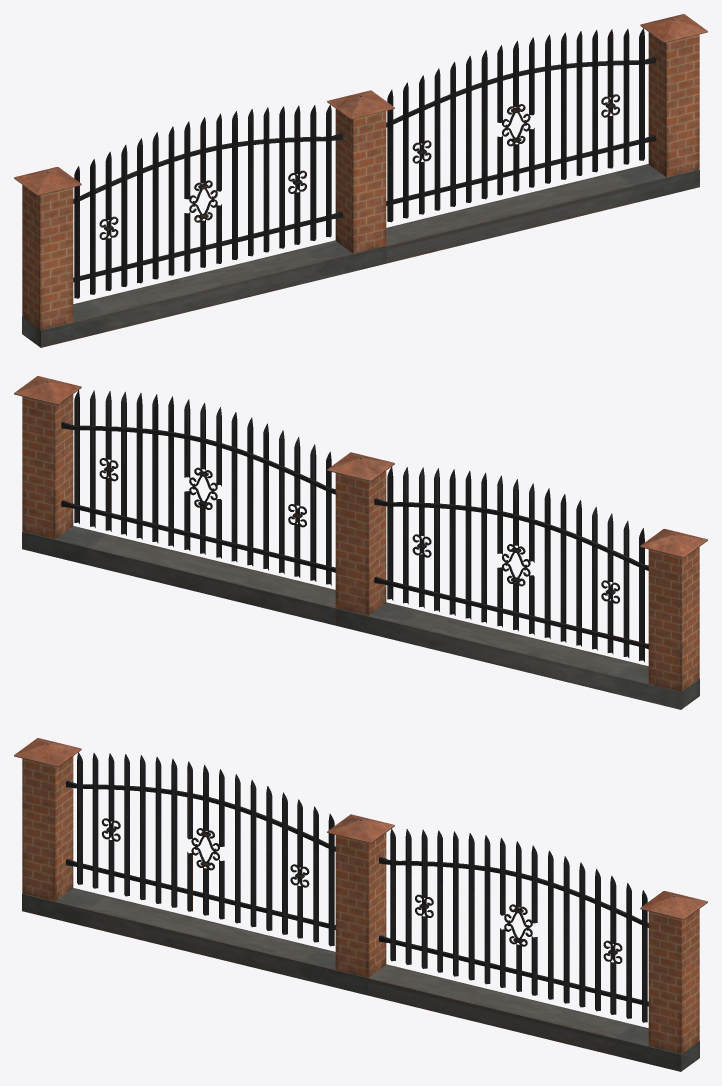
The model's file is brick_and_iron_segment_fence_5990a780.fbx.
3 renders of one model, top to bottom at view 1: azimuth 30°, elevation 25°; view 2: azimuth 150°, elevation 25°; view 3: azimuth 330°, elevation 25°, orthographic.
Visible parts, largest first — view 1: brick_and_iron_segment_fence_5990a780; view 2: brick_and_iron_segment_fence_5990a780; view 3: brick_and_iron_segment_fence_5990a780.
Part boxes in pixels (x1,y1,x2,y2): brick_and_iron_segment_fence_5990a780: [14, 14, 707, 347]; brick_and_iron_segment_fence_5990a780: [14, 376, 707, 709]; brick_and_iron_segment_fence_5990a780: [14, 738, 707, 1071].
Size of the model in its own units: 6.57 by 1.7 by 0.411.
Materials: 1 (1 with a texture image).
